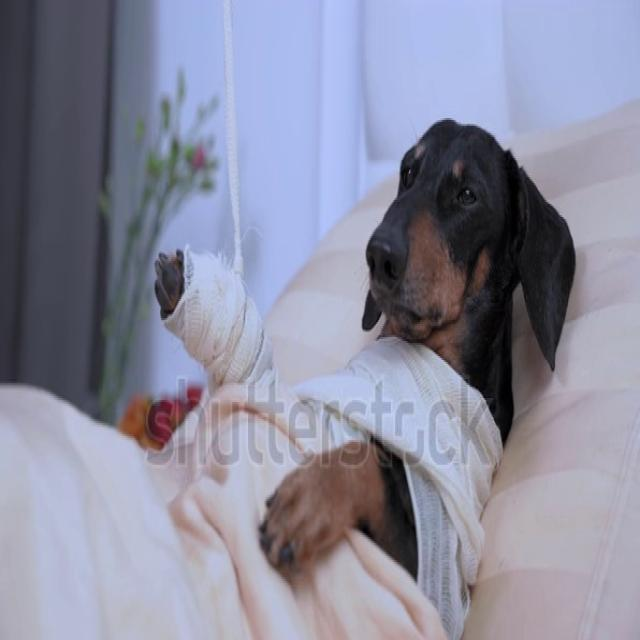injured-animals: (128, 70, 599, 640)
